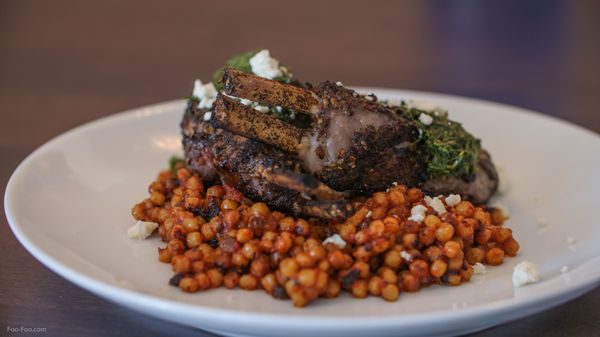curry: (396, 104, 482, 182)
